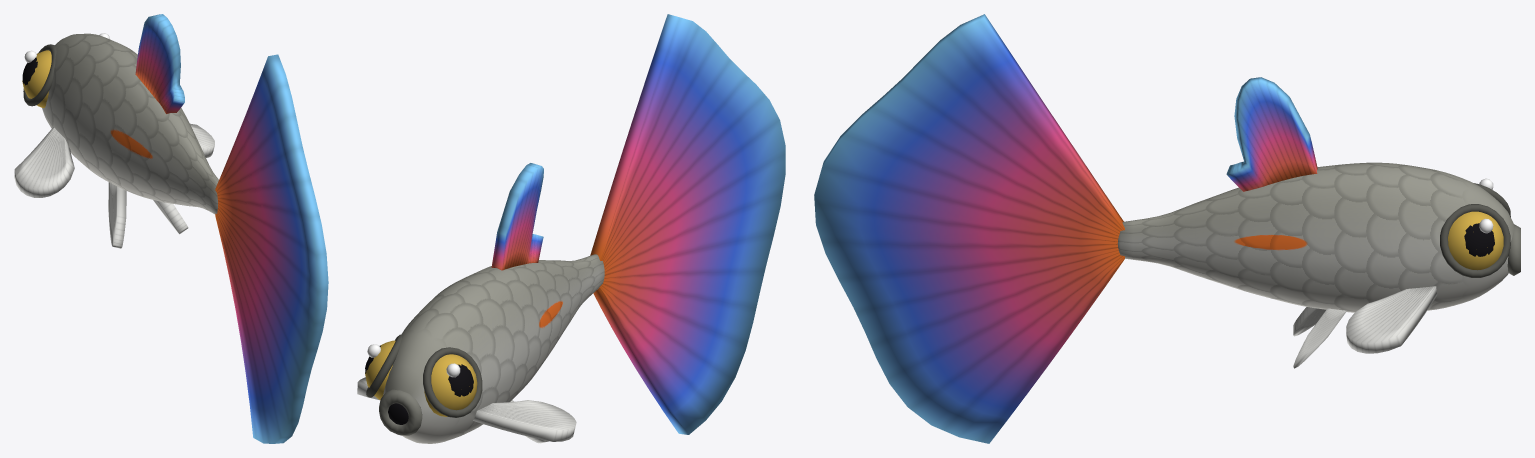
Rendered from Guppy.glb.
The picture shows the model from 3 angles, left to right: view 1: azimuth 30°, elevation 25°; view 2: azimuth 150°, elevation 25°; view 3: azimuth 270°, elevation 25°; orthographic projection. The views are drawn at different scales.
Parts seen in each view (by area): view 1: Guppy; view 2: Guppy; view 3: Guppy.
Boxes of the visible parts, x1,y1,x2,y2 form: Guppy: [14, 14, 328, 443]; Guppy: [357, 14, 785, 443]; Guppy: [814, 14, 1520, 443].
Size of the model in its own units: 0.6243 by 1.19 by 1.77.
1 material, 1 textured.
